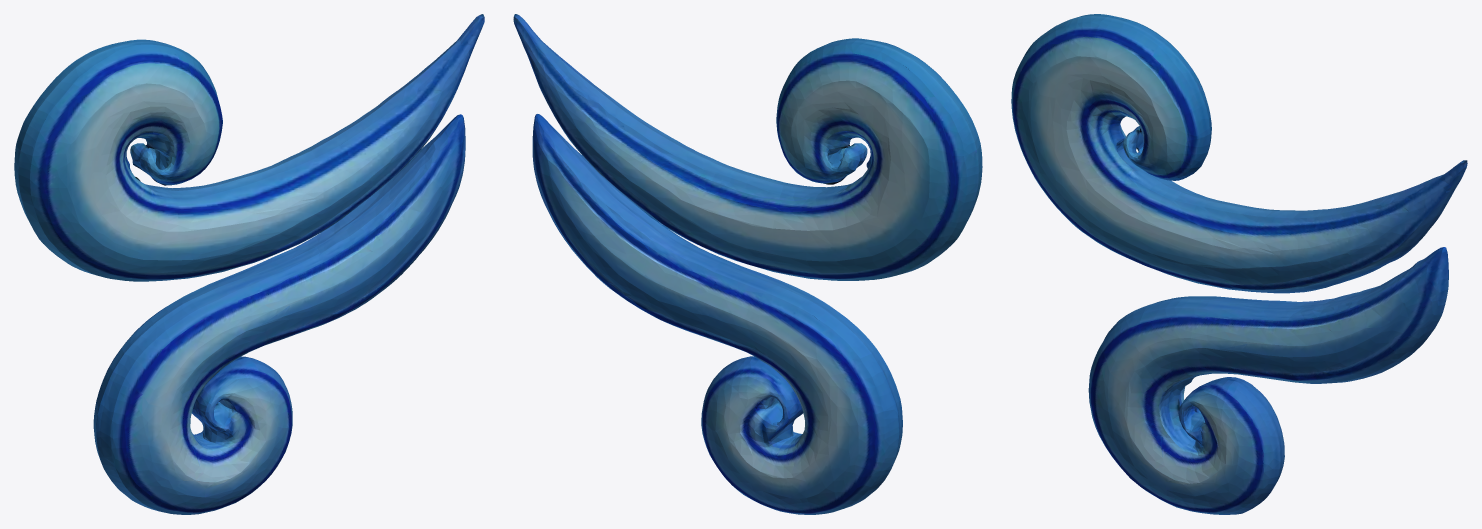
The model's file is gust.glb.
3 views of the same model, side by side, from view 1: azimuth 30°, elevation 25°; view 2: azimuth 150°, elevation 25°; view 3: azimuth 330°, elevation 25° (orthographic). The views are drawn at different scales.
Visible parts, largest first — view 1: world; view 2: world; view 3: world.
Boxes of the visible parts, x1=… form: world: x1=14, y1=14, x2=484, y2=514; world: x1=513, y1=14, x2=982, y2=514; world: x1=1011, y1=14, x2=1467, y2=514.
Size of the model in its own units: 0.9991 by 0.9999 by 0.1374.
1 material, 1 textured.
